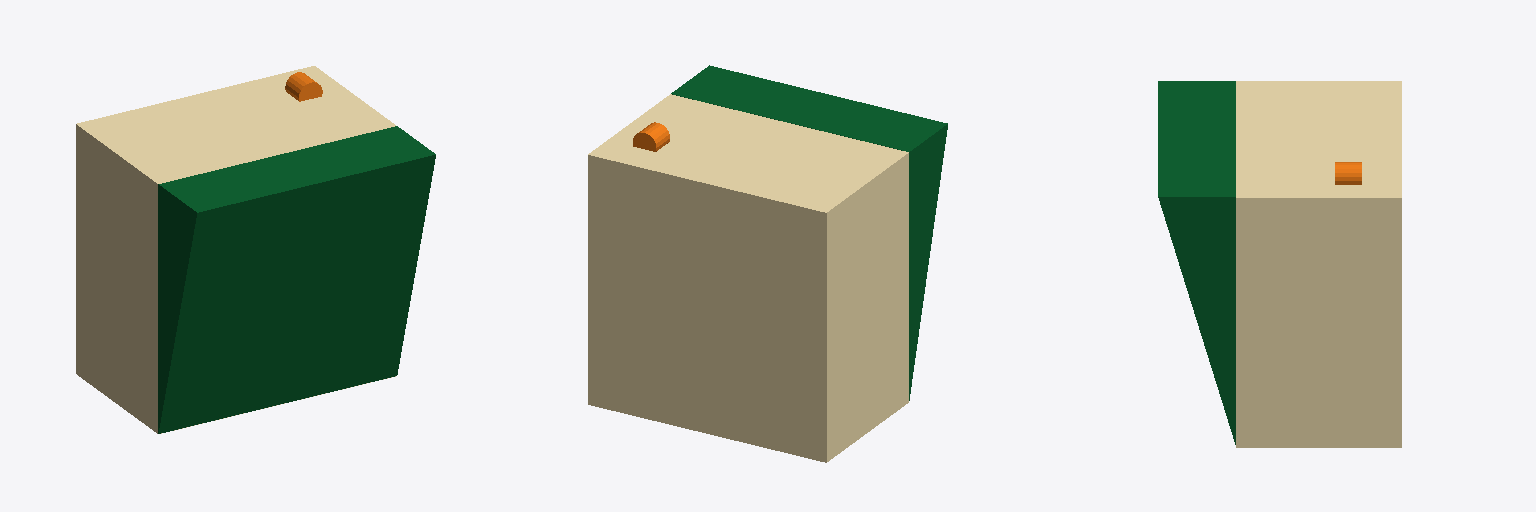
File: tinker.obj
The picture shows the model from 3 angles: view 1: azimuth 30°, elevation 25°; view 2: azimuth 150°, elevation 25°; view 3: azimuth 270°, elevation 25°; orthographic projection.
Visible parts, largest first — view 1: obj_0; view 2: obj_0; view 3: obj_0.
Boxes of the visible parts, box(x1,y1,x2,y2) form: obj_0: box(76, 66, 435, 433); obj_0: box(588, 65, 947, 462); obj_0: box(1158, 81, 1401, 447).
Size of the model in its own units: 50 by 53.31 by 44.14.